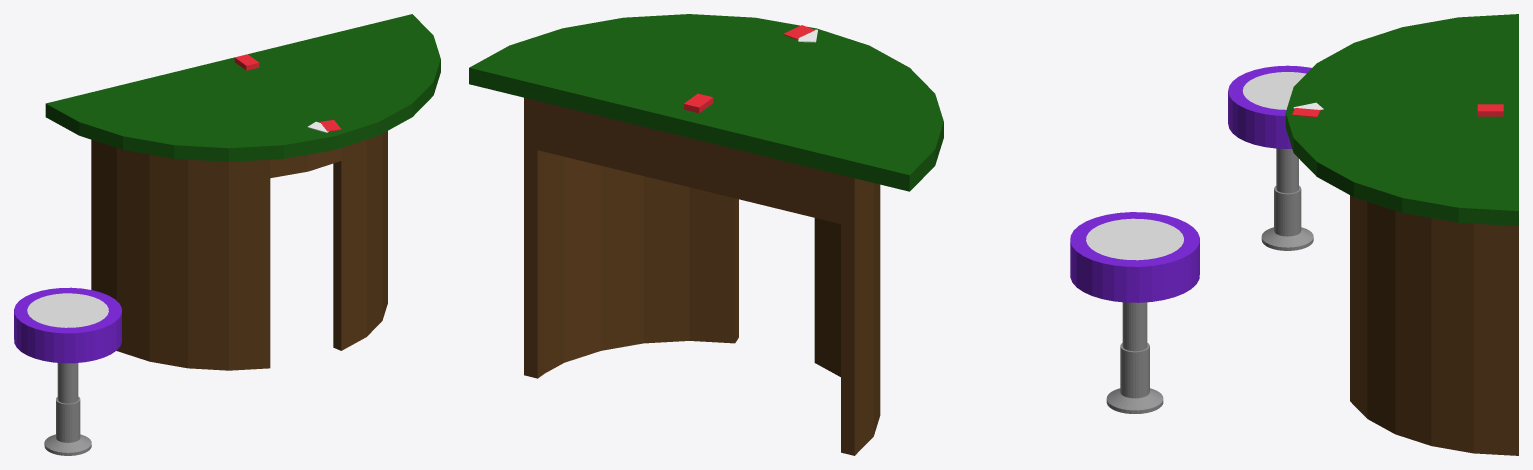
The model's file is blackjacke table.fbx.
3 renders of one model, left to right at view 1: azimuth 30°, elevation 25°; view 2: azimuth 150°, elevation 25°; view 3: azimuth 270°, elevation 25°, orthographic. The views are drawn at different scales.
Parts seen in each view (by area): view 1: table, Circle; view 2: table, Circle; view 3: table, Circle, Plane.002.
Part boxes in pixels (x1,y1,x2,y2): table: [45, 14, 440, 370]; Circle: [14, 287, 121, 455]; table: [469, 14, 943, 455]; Circle: [1070, 212, 1199, 413]; table: [1285, 14, 1518, 455]; Circle: [1228, 65, 1313, 250]; Plane.002: [1477, 104, 1503, 116].
Size of the model in its own units: 442 by 215 by 204.
